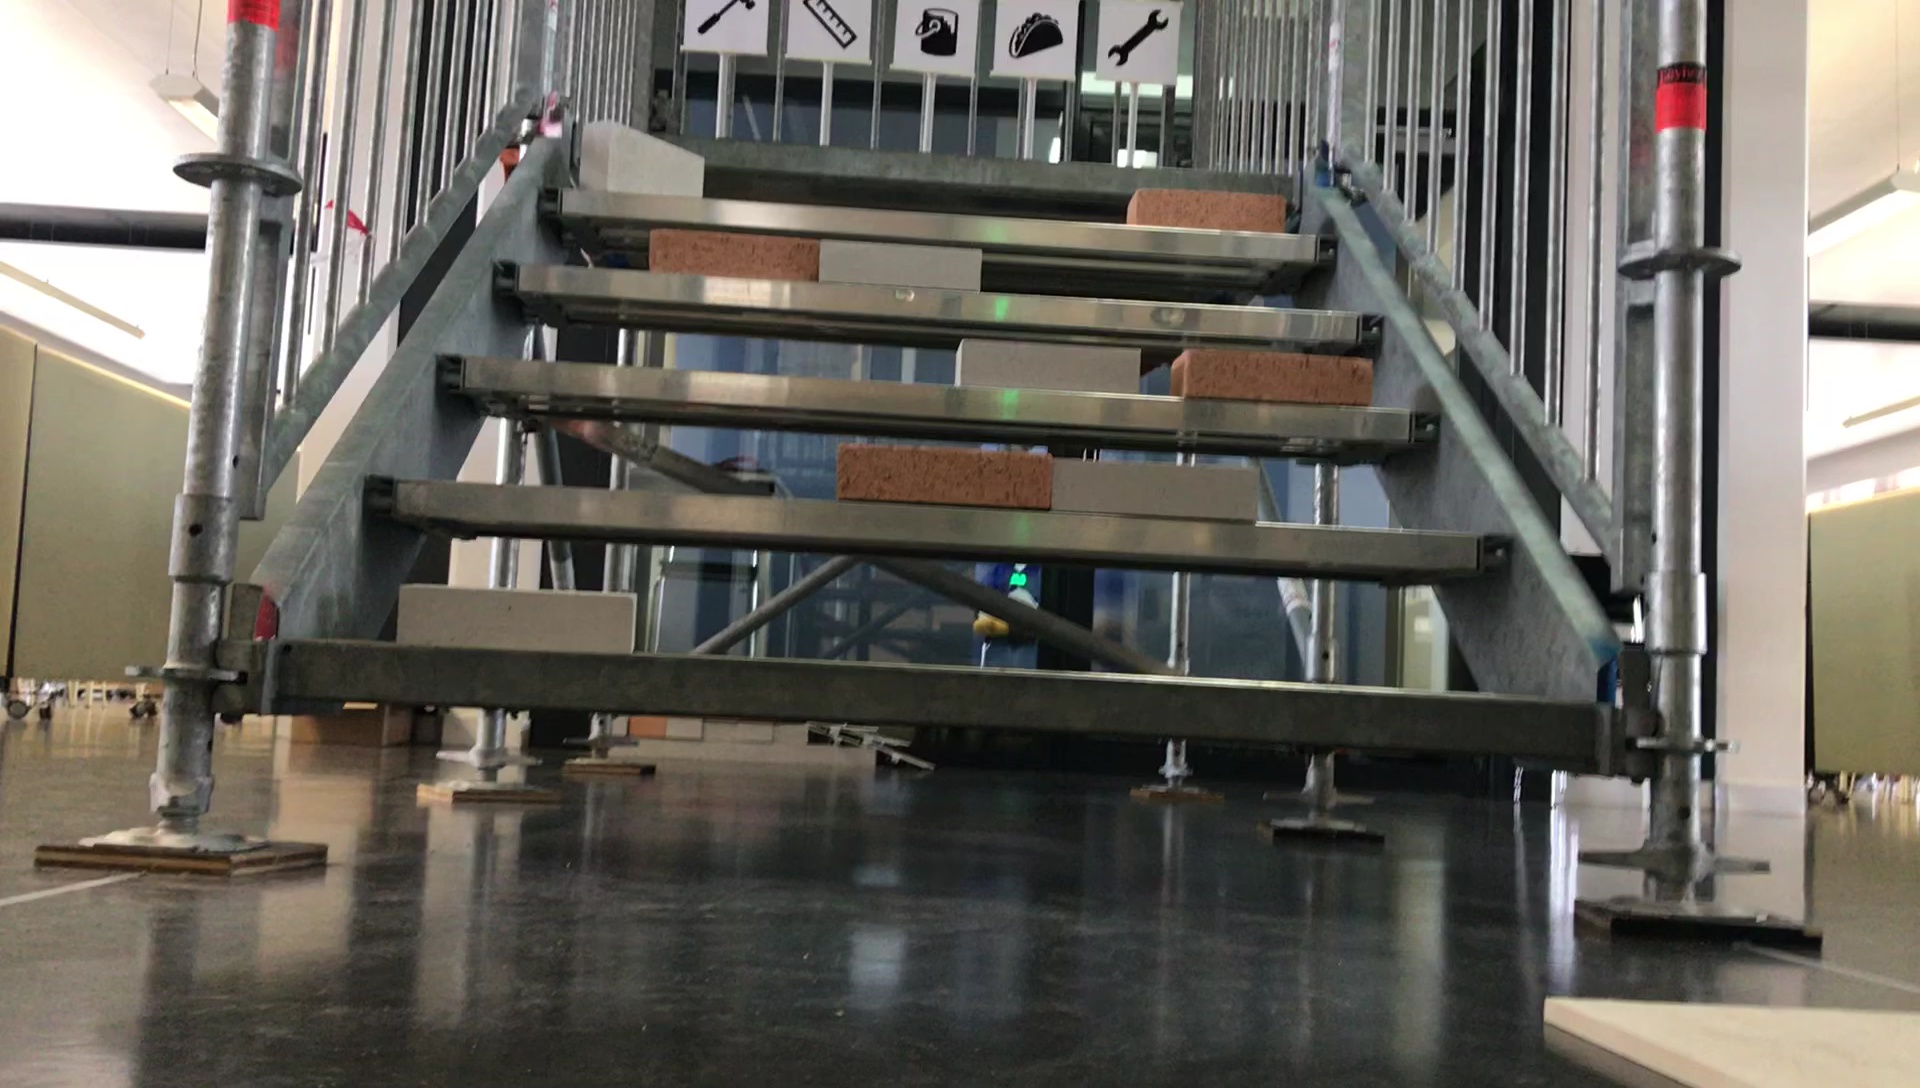brick: (397, 586, 634, 651), (840, 443, 1047, 510), (1062, 460, 1255, 522), (1170, 351, 1371, 404), (955, 340, 1138, 396), (583, 120, 702, 195), (647, 231, 815, 282), (820, 243, 980, 293), (1125, 189, 1286, 232)
edge: (277, 640, 1600, 762), (367, 477, 1518, 578), (433, 352, 1440, 444), (492, 260, 1385, 346), (535, 187, 1336, 256)
stairs: (33, 18, 1826, 952)
steps: (270, 95, 1615, 810)
